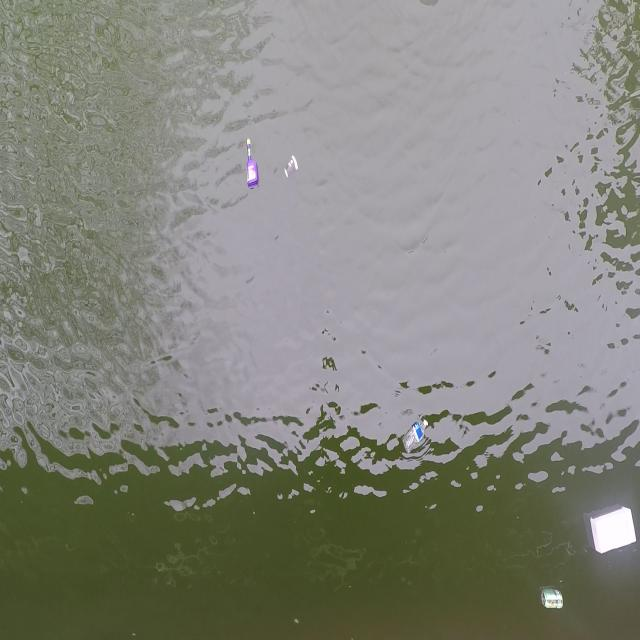Autre plastique: (587, 503, 638, 563)
Bouteille plastique: (402, 415, 432, 461), (242, 134, 261, 192)
Non plastique: (537, 579, 568, 616), (282, 154, 301, 185)
